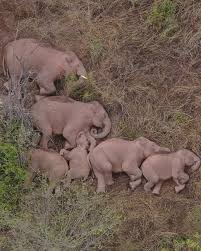Adult Elephant: (90, 135, 170, 187)
Baby Elephant: (3, 34, 89, 95), (28, 96, 112, 150), (142, 148, 197, 194), (16, 149, 71, 191), (67, 132, 90, 187)
